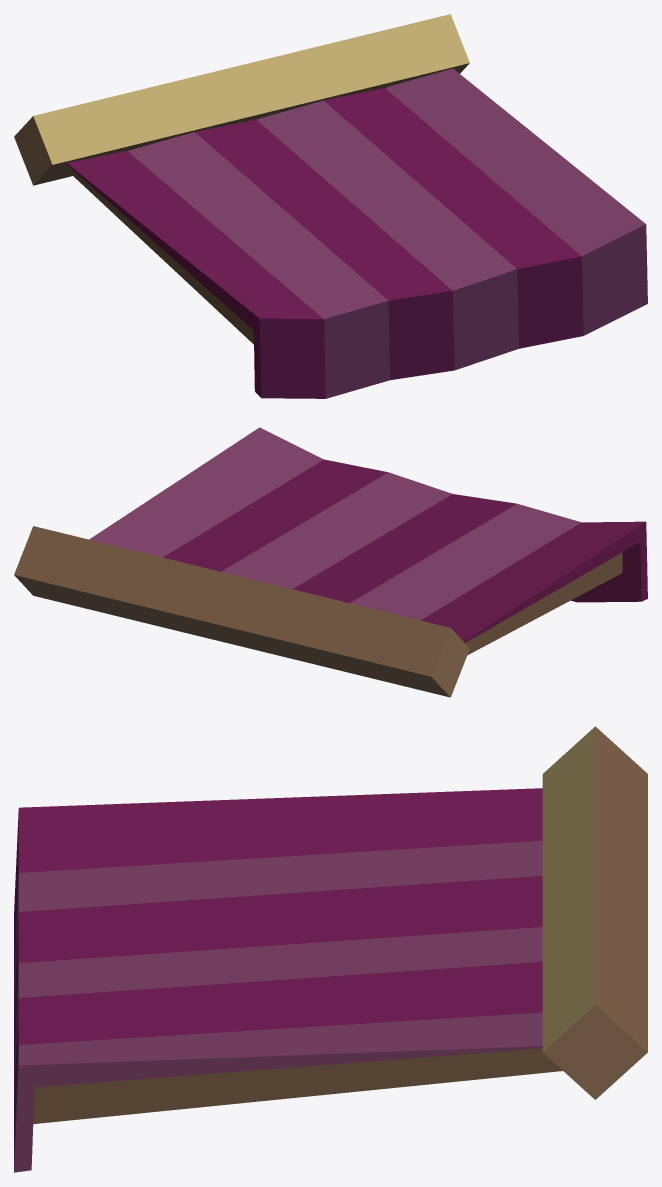
The model's file is TB_D_Bd_Canopy_Str_E.FBX.
The picture shows the model from 3 angles, top to bottom: view 1: azimuth 30°, elevation 25°; view 2: azimuth 150°, elevation 25°; view 3: azimuth 270°, elevation 25°; orthographic projection. The views are drawn at different scales.
Visible parts, largest first — view 1: TB_D_Bd_Canopy_Str_E; view 2: TB_D_Bd_Canopy_Str_E; view 3: TB_D_Bd_Canopy_Str_E.
Part boxes in pixels (bbox=[...]): TB_D_Bd_Canopy_Str_E: bbox=[14, 14, 647, 398]; TB_D_Bd_Canopy_Str_E: bbox=[14, 427, 647, 697]; TB_D_Bd_Canopy_Str_E: bbox=[14, 726, 647, 1172].
Bounding box in the file's own units: 1.88 × 0.6442 × 1.81.
